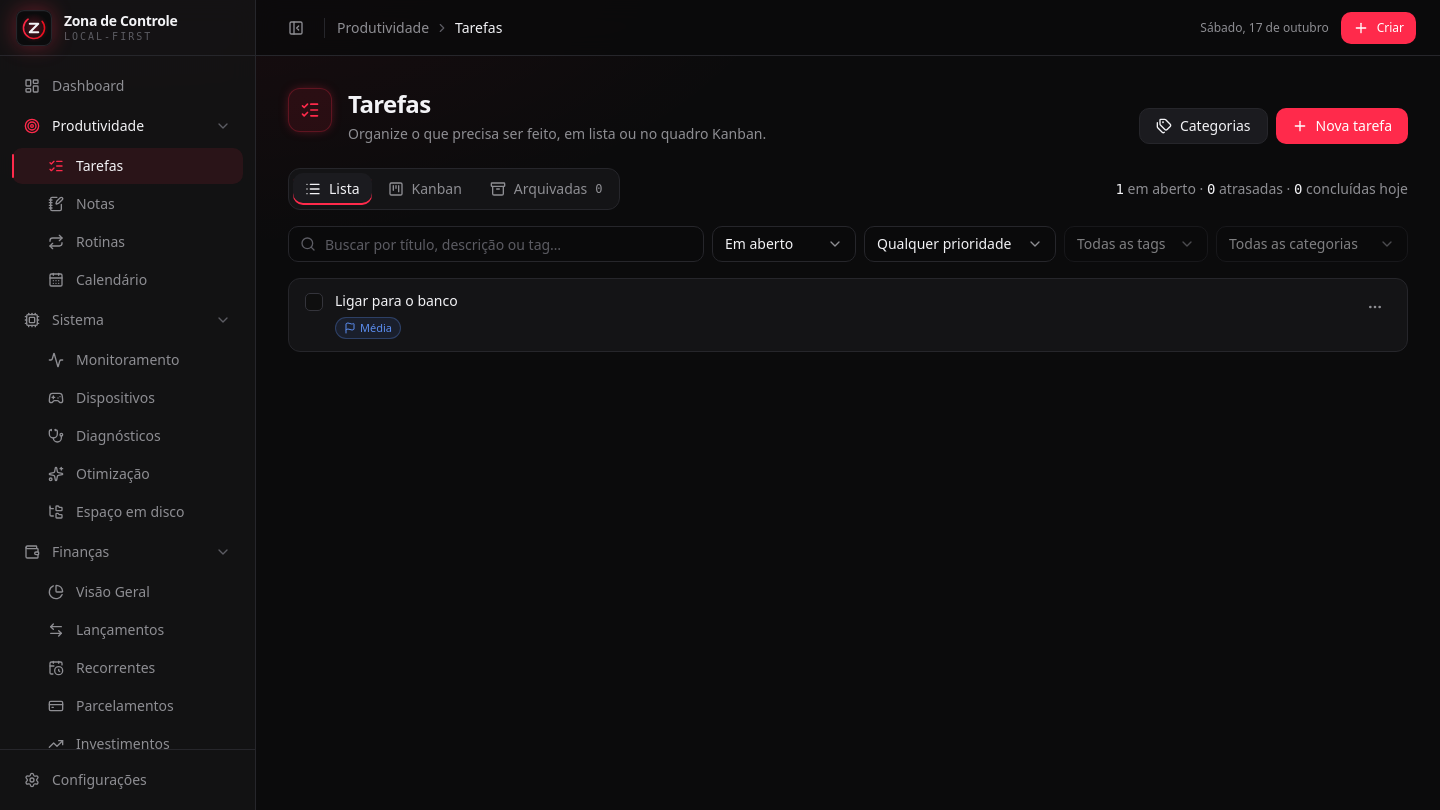
Scenario: página de Tarefas — lista › conclui uma tarefa pelo checkbox
Click the checkbox named "Concluir “Ligar para o banco”". click: (314, 302)
box: [305,293,323,311]
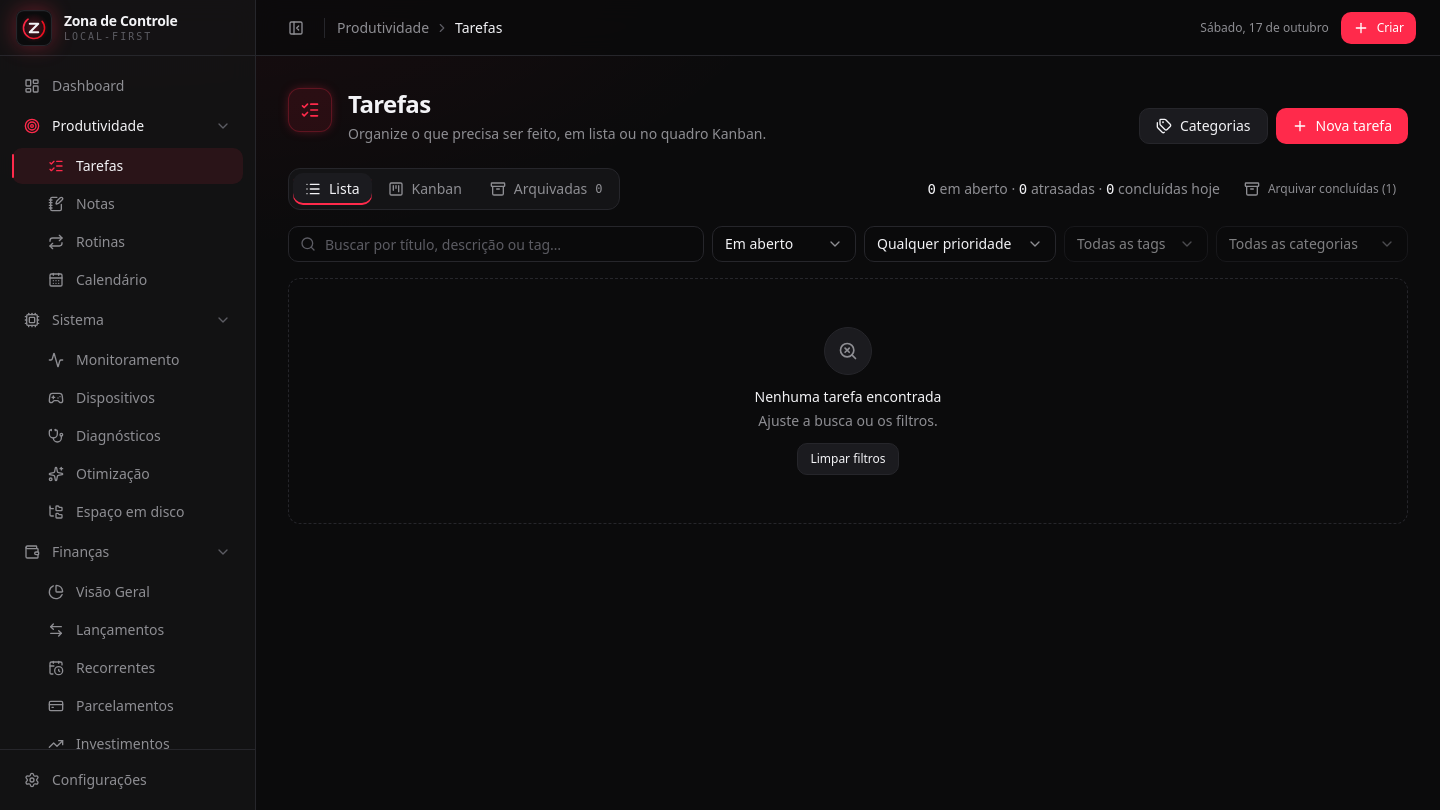
Expected: the button "Ligar para o banco" is gone
